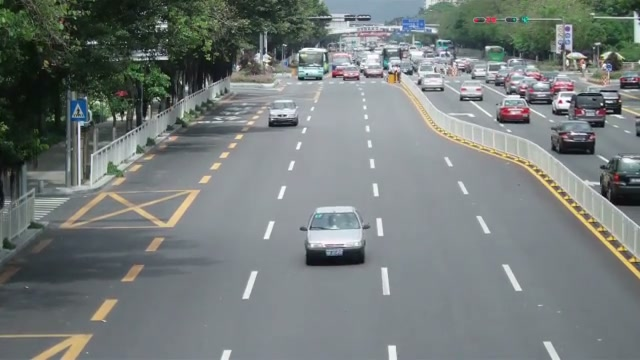car: (299, 205, 370, 266), (598, 154, 640, 204), (549, 120, 596, 154), (567, 92, 607, 128), (495, 96, 531, 124), (268, 100, 299, 127), (551, 92, 576, 115), (526, 82, 552, 104), (459, 81, 484, 101), (419, 74, 444, 92), (341, 66, 360, 81)
truck: (297, 47, 330, 81)
